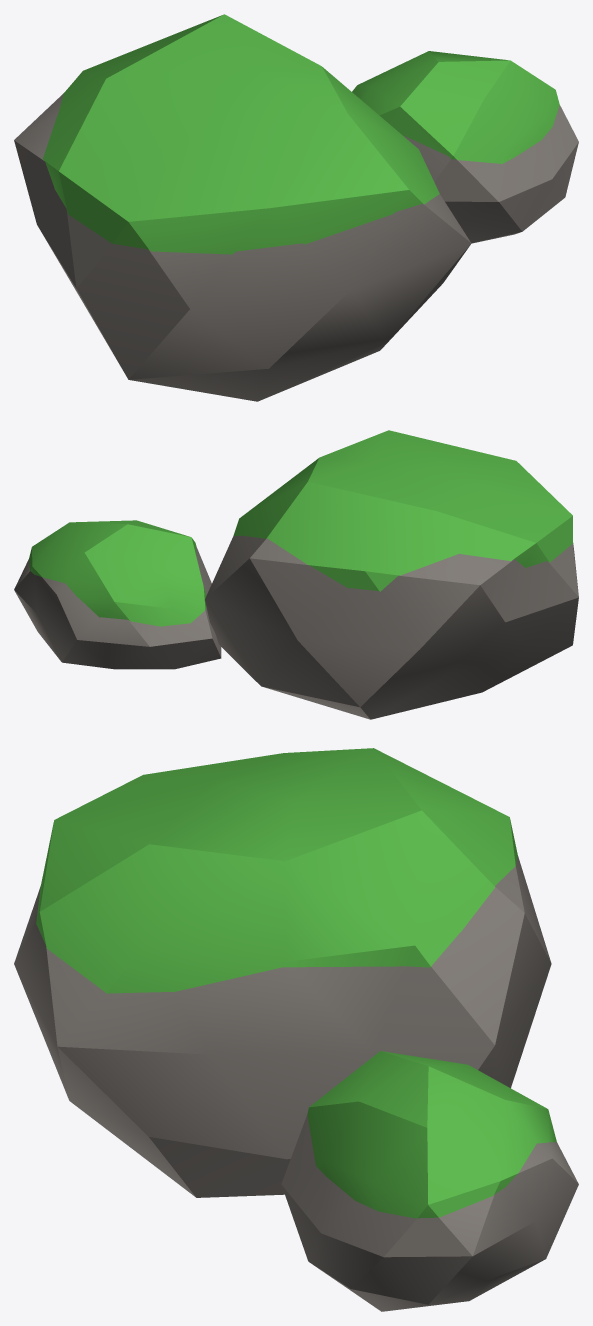
File: BoulderPair.fbx
The picture shows the model from 3 angles, top to bottom: view 1: azimuth 30°, elevation 25°; view 2: azimuth 150°, elevation 25°; view 3: azimuth 270°, elevation 25°; orthographic projection. The views are drawn at different scales.
Visible parts, largest first — view 1: BoulderPair_Leaf, BoulderPair_Stone; view 2: BoulderPair_Stone, BoulderPair_Leaf; view 3: BoulderPair_Leaf, BoulderPair_Stone.
Part boxes in pixels (bbox=[...]): BoulderPair_Leaf: bbox=[43, 14, 559, 254]; BoulderPair_Stone: bbox=[14, 93, 578, 401]; BoulderPair_Stone: bbox=[14, 535, 578, 719]; BoulderPair_Leaf: bbox=[29, 430, 572, 626]; BoulderPair_Leaf: bbox=[36, 748, 556, 1218]; BoulderPair_Stone: bbox=[14, 855, 578, 1311].
Size of the model in its own units: 449 by 221 by 310.
